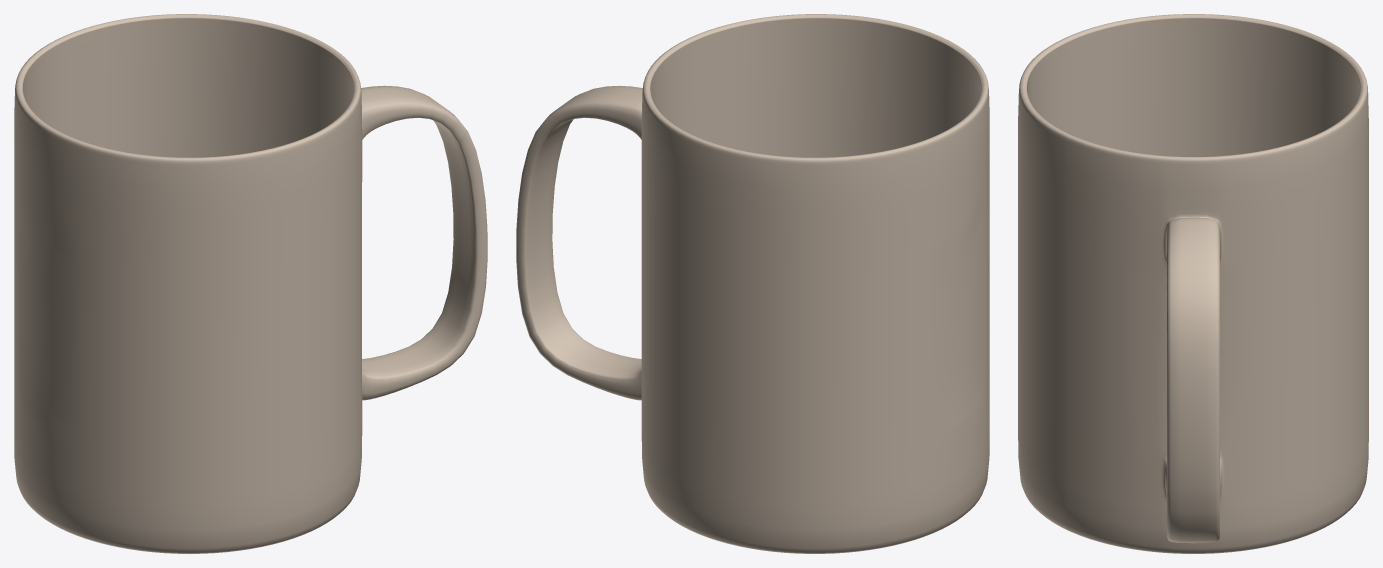
The model's file is mug_1.obj.
3 views of the same model, side by side, from view 1: azimuth 30°, elevation 25°; view 2: azimuth 150°, elevation 25°; view 3: azimuth 270°, elevation 25° (orthographic).
Parts seen in each view (by area): view 1: mug_1; view 2: mug_1; view 3: mug_1.
Part boxes in pixels (box(x1,y1,x2,y2)): mug_1: box(14, 14, 487, 553); mug_1: box(516, 14, 989, 553); mug_1: box(1018, 14, 1368, 553).
Size of the model in its own units: 11.6 by 10 by 8.
